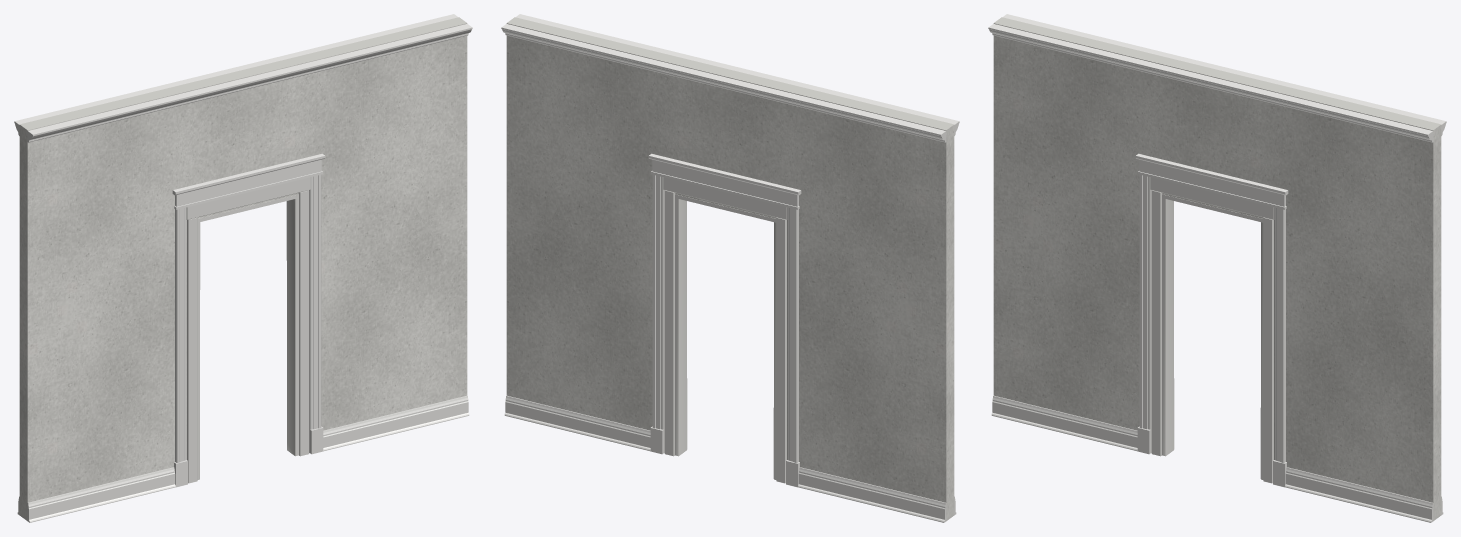
3 views of the same model, side by side, from view 1: azimuth 30°, elevation 25°; view 2: azimuth 150°, elevation 25°; view 3: azimuth 330°, elevation 25° (orthographic).
Parts seen in each view (by area): view 1: cw_370_d_plaster, molduras, cw_370_d_frame; view 2: cw_370_d_plaster, molduras, cw_370_d_frame; view 3: cw_370_d_plaster, molduras, cw_370_d_frame.
Boxes of the visible parts, x1,y1,x2,y2 form: cw_370_d_plaster: (19, 17, 467, 520); molduras: (14, 14, 472, 522); cw_370_d_frame: (186, 177, 310, 483); cw_370_d_plaster: (506, 17, 954, 520); molduras: (501, 14, 959, 522); cw_370_d_frame: (663, 177, 787, 483); cw_370_d_plaster: (993, 17, 1441, 520); molduras: (988, 14, 1446, 522); cw_370_d_frame: (1150, 177, 1274, 483).
Size of the model in its own units: 3.7 by 3.14 by 0.27.
3 materials, 1 textured.
